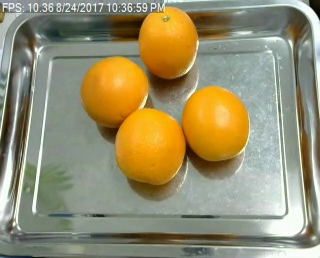Orange: (112, 107, 185, 184), (183, 85, 248, 162), (80, 54, 147, 126), (139, 6, 199, 79)
